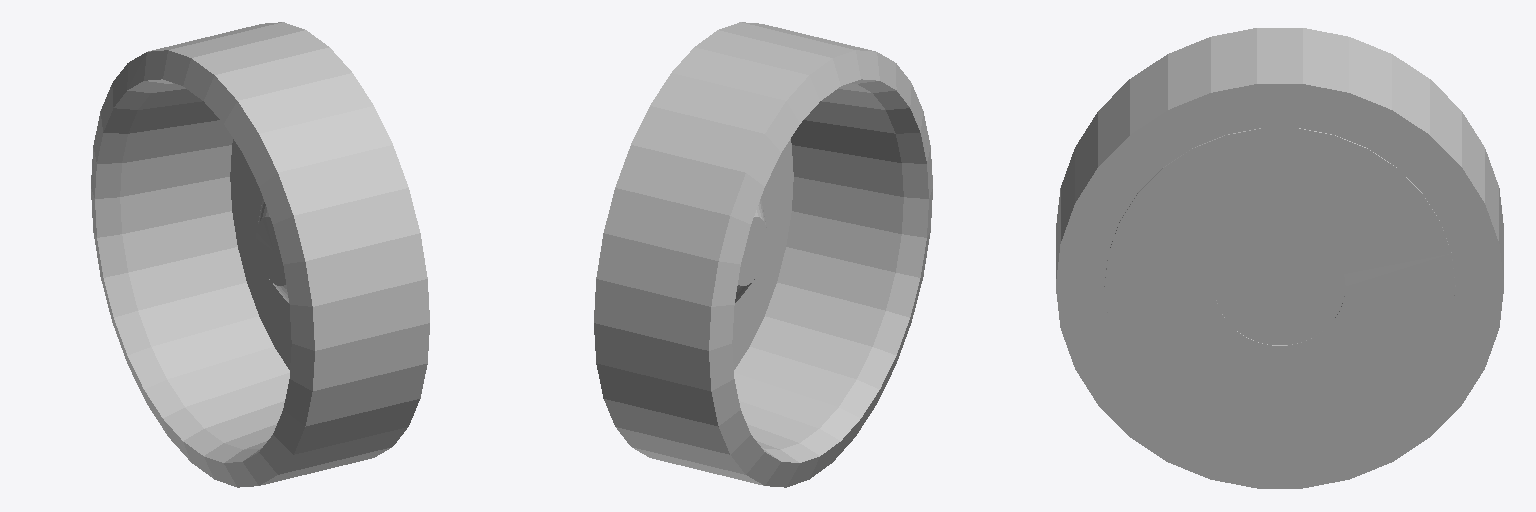
Rendered from cerchioneR1A.obj.
3 views of the same model, side by side, from view 1: azimuth 30°, elevation 25°; view 2: azimuth 150°, elevation 25°; view 3: azimuth 270°, elevation 25° (orthographic).
Visible parts, largest first — view 1: Cylinder70; view 2: Cylinder70; view 3: Cylinder70.
Part boxes in pixels (left/top/right/bottom): Cylinder70: left=91, top=22, right=429, bottom=487; Cylinder70: left=594, top=22, right=932, bottom=487; Cylinder70: left=1056, top=28, right=1503, bottom=488.
Bounding box in the file's own units: 2.11 × 6.48 × 6.52.